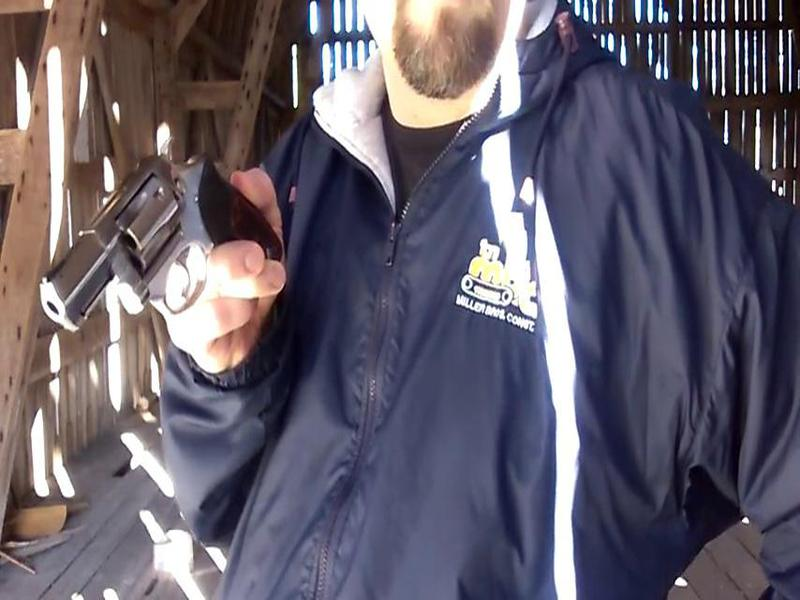Revolver: (31, 134, 243, 343)
